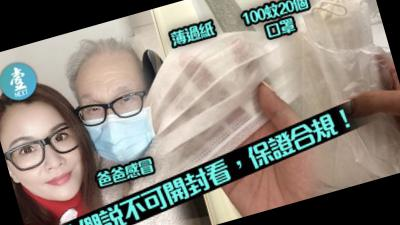with_mask: (70, 73, 163, 173)
without_mask: (3, 118, 93, 212)
